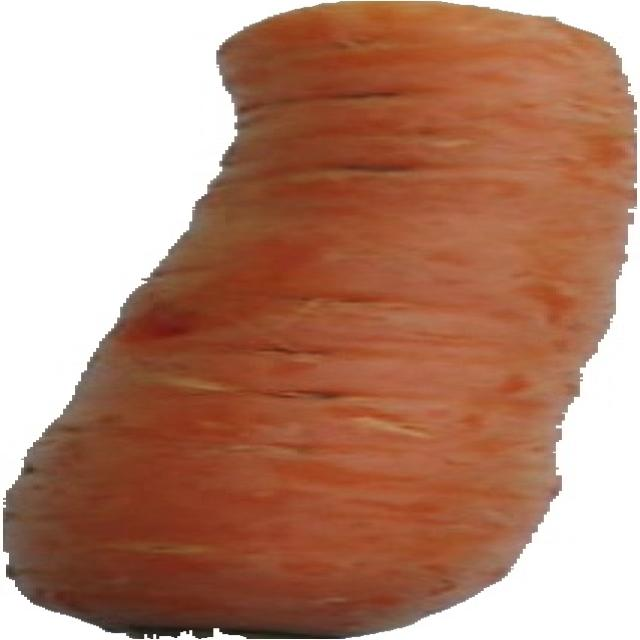carrot: (8, 2, 632, 638)
